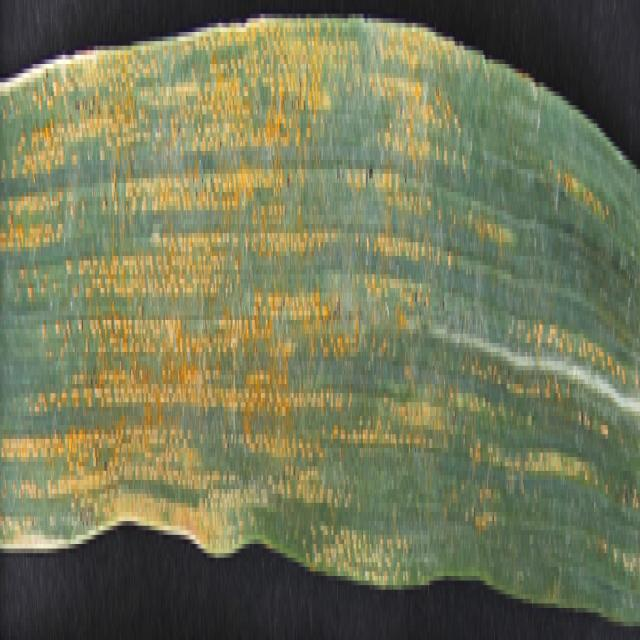leaf rust: (1, 28, 617, 594)
